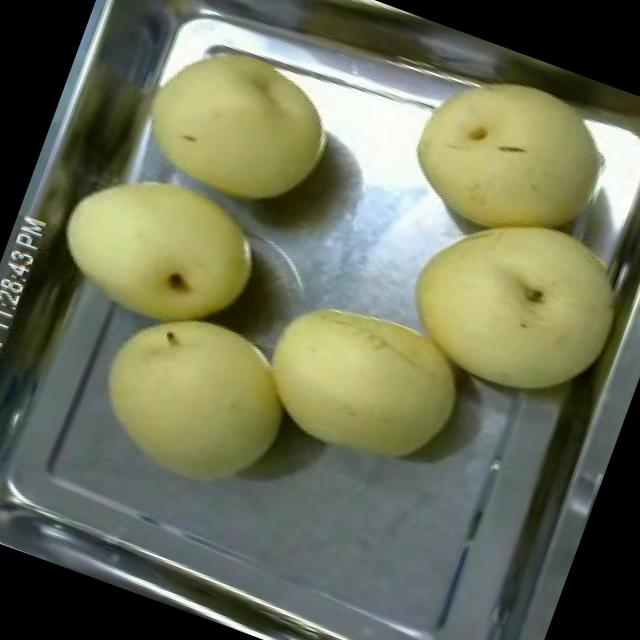Fruit: (379, 172, 640, 430), (381, 37, 637, 275), (64, 278, 318, 514), (33, 138, 289, 362), (238, 270, 484, 490), (120, 14, 360, 235)
